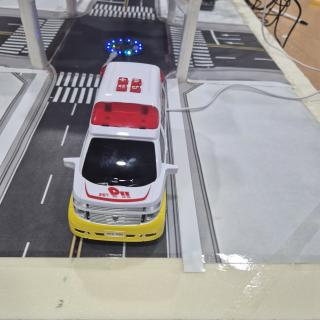Ambulance: (64, 62, 178, 243)
